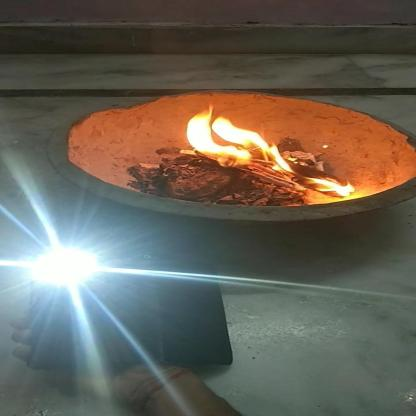fire: (178, 104, 357, 198)
